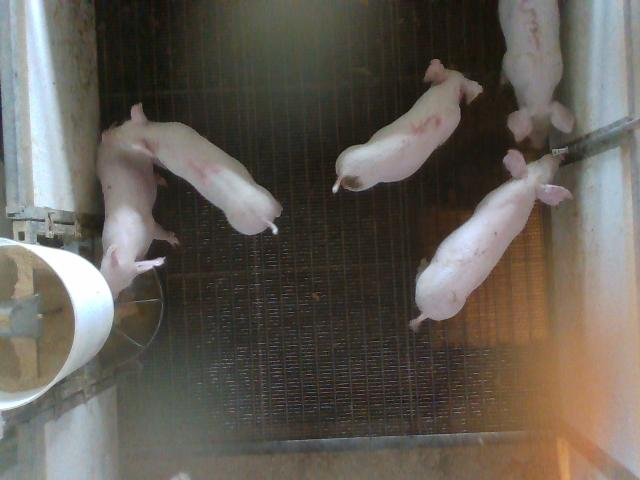pig-3: (499, 0, 575, 148)
pig-4: (104, 105, 281, 235)
pig-5: (332, 60, 482, 192)
